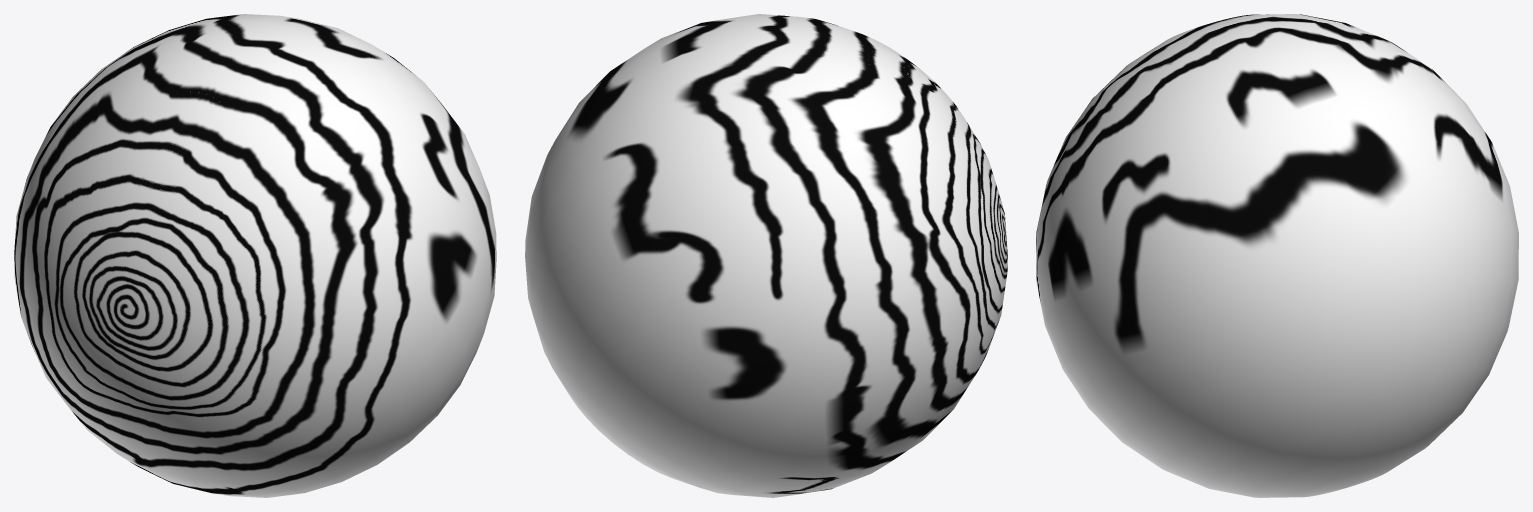
The picture shows the model from 3 angles, left to right: view 1: azimuth 30°, elevation 25°; view 2: azimuth 150°, elevation 25°; view 3: azimuth 270°, elevation 25°; orthographic projection.
Parts seen in each view (by area): view 1: Sphere; view 2: Sphere; view 3: Sphere.
Boxes of the visible parts, <box> form: Sphere: <box>14,14,496,497</box>; Sphere: <box>525,14,1007,497</box>; Sphere: <box>1036,14,1518,497</box>.
Size of the model in its own units: 219 by 220 by 219.
Materials: 4 (4 with a texture image).
